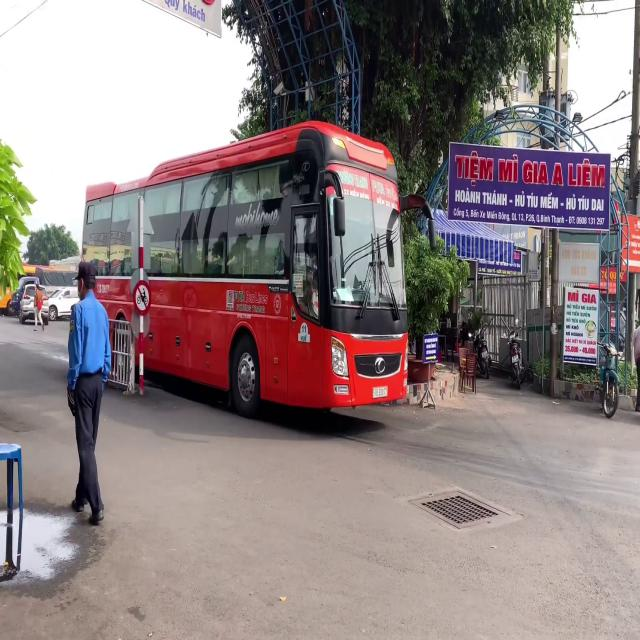bien_trang: (371, 384, 389, 399)
